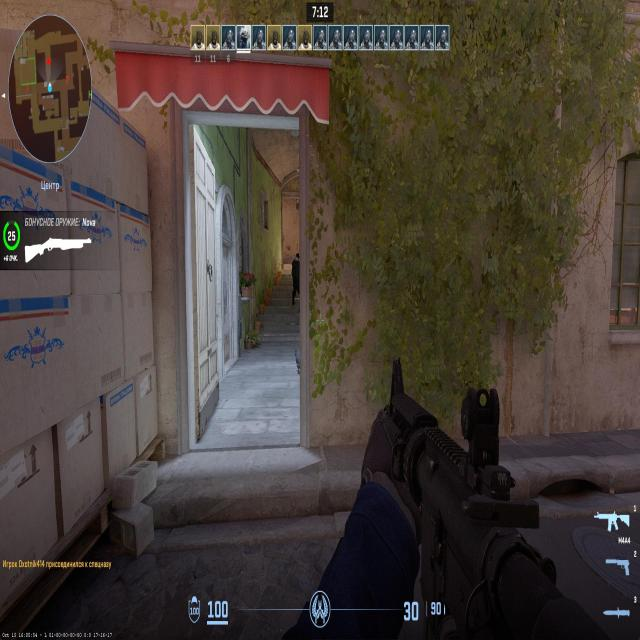CT: (292, 253, 302, 307)
CT_heat: (295, 256, 300, 266)
